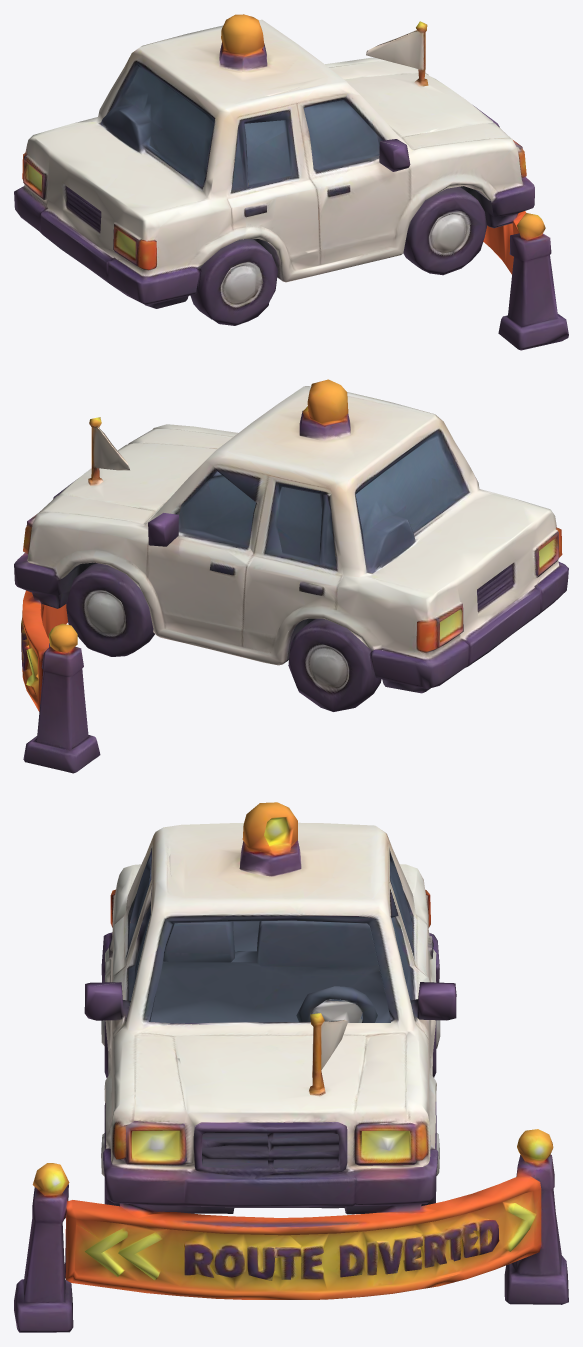
Rendered from obstacle-vip-convoy.glb.
3 renders of one model, top to bottom at view 1: azimuth 30°, elevation 25°; view 2: azimuth 150°, elevation 25°; view 3: azimuth 270°, elevation 25°, orthographic. The views are drawn at different scales.
Parts seen in each view (by area): view 1: tripo_node_0971e281-7ed1-4b96-a749-b6765566d31a; view 2: tripo_node_0971e281-7ed1-4b96-a749-b6765566d31a; view 3: tripo_node_0971e281-7ed1-4b96-a749-b6765566d31a.
Part boxes in pixels (x1,y1,x2,y2): tripo_node_0971e281-7ed1-4b96-a749-b6765566d31a: (14,14,568,350); tripo_node_0971e281-7ed1-4b96-a749-b6765566d31a: (14,379,568,773); tripo_node_0971e281-7ed1-4b96-a749-b6765566d31a: (14,802,568,1332).
Size of the model in its own units: 1 by 0.7192 by 0.9106.
Materials: 1 (1 with a texture image).
